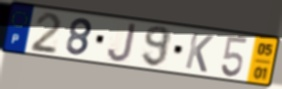2: (29, 10, 62, 55)
5: (220, 35, 249, 78)
8: (64, 16, 93, 57)
9: (141, 24, 173, 70)
J: (106, 21, 138, 64)
K: (183, 31, 216, 75)
